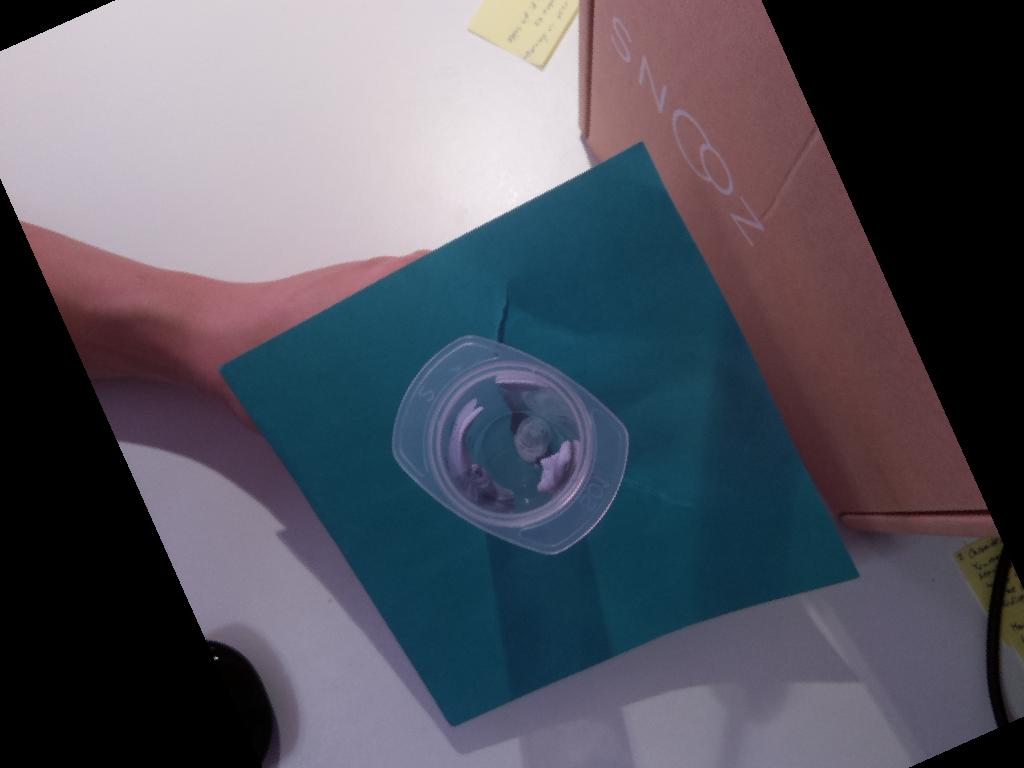dirty: (390, 335, 630, 556)
